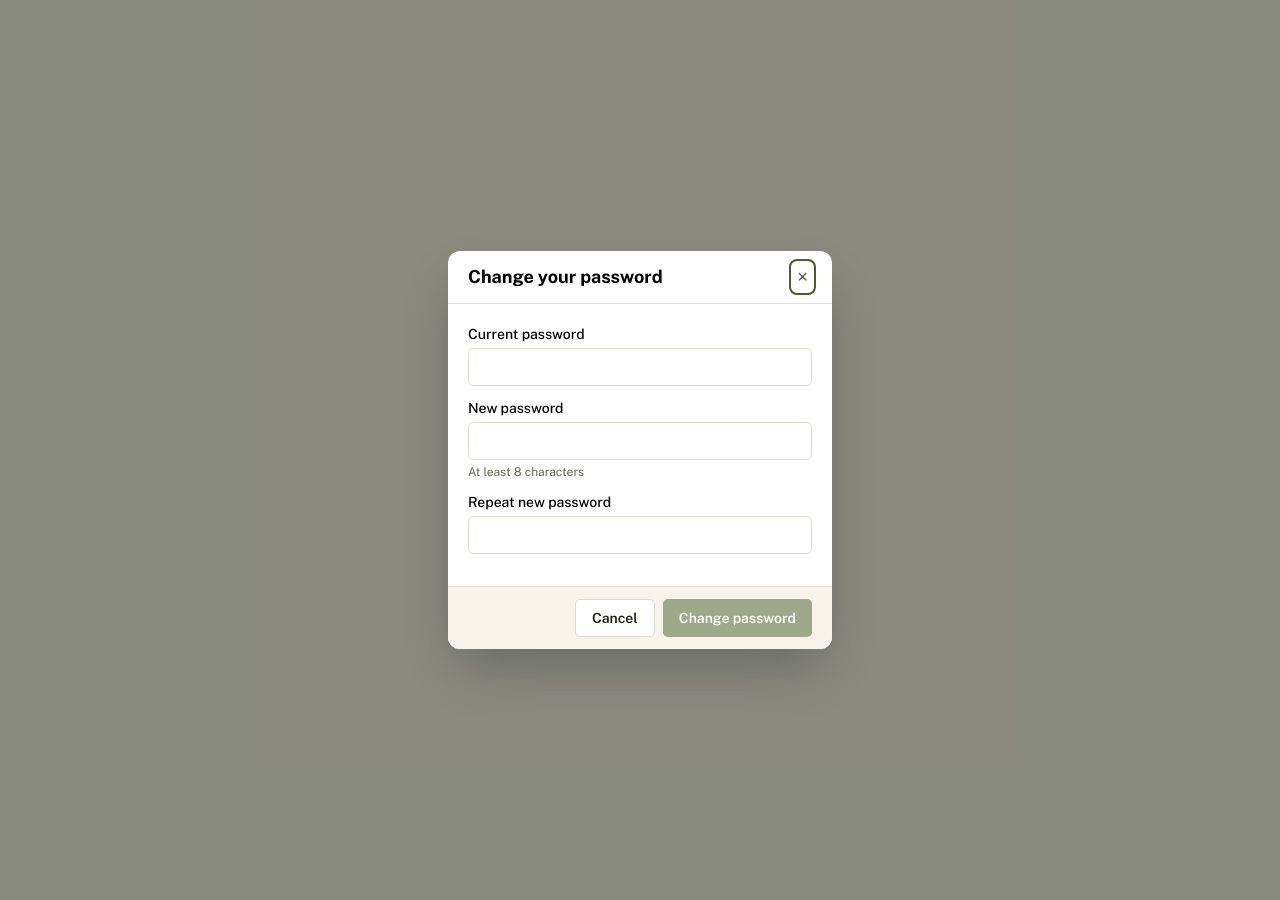
it: change own password › shows the server message when the current password is wrong and keeps the old token
Type "wrong" into the password field labelled "Current password".
click(640, 367); type("wrong")  # box x1=468 y1=348 x2=812 y2=386
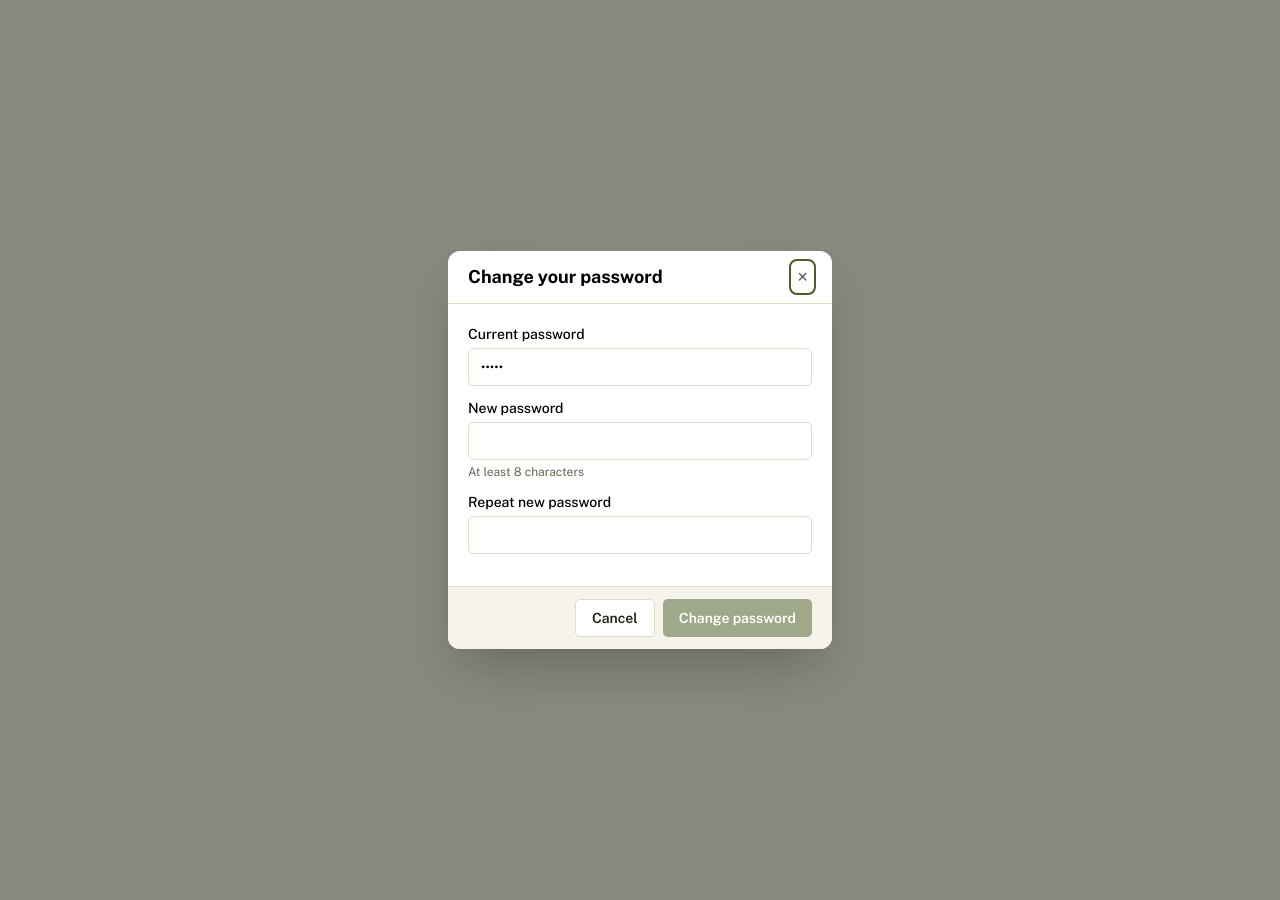
Type "a-better-pass" into the password field labelled "New password".
click(640, 441); type("a-better-pass")  # box x1=468 y1=422 x2=812 y2=460
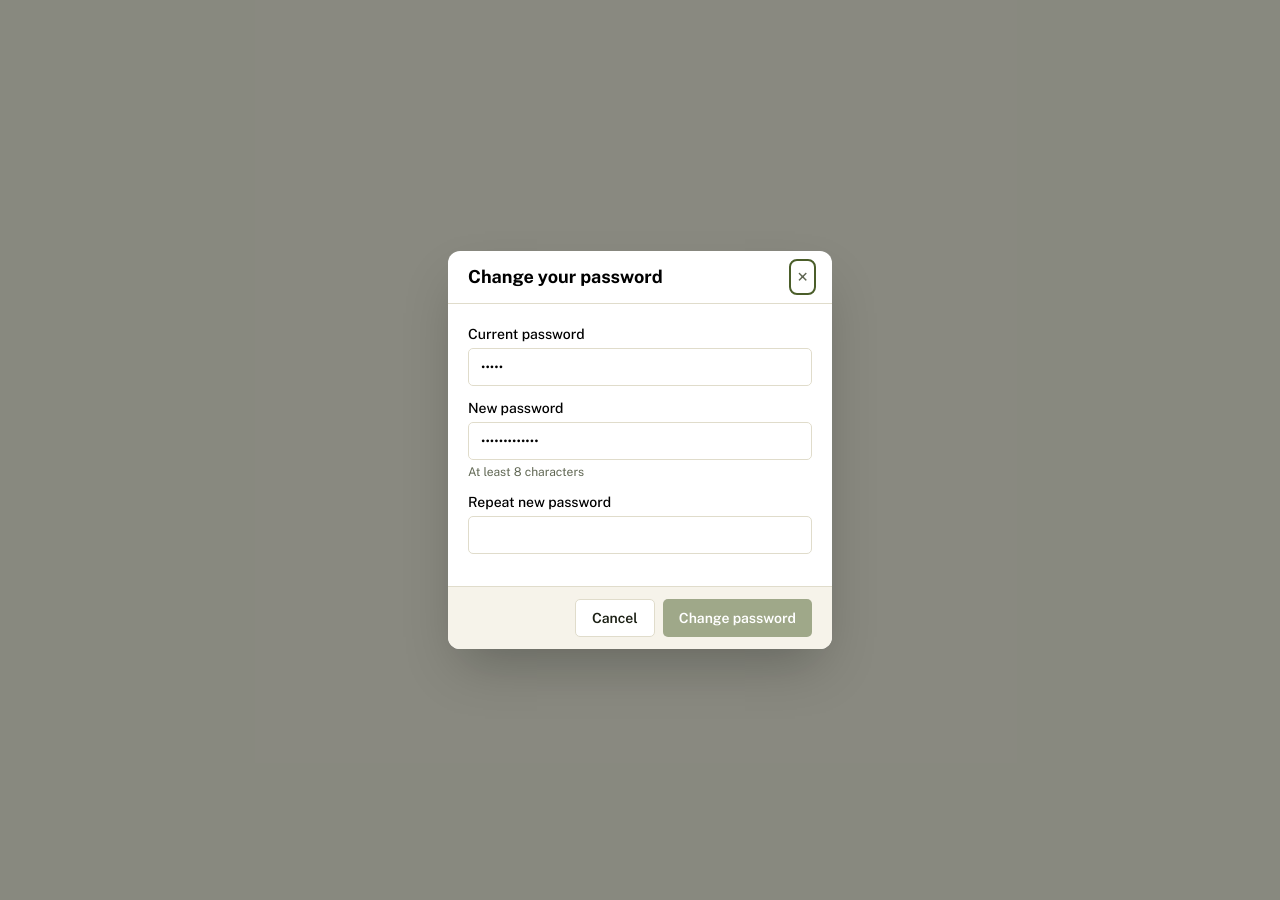
Type "a-better-pass" into the password field labelled "Repeat new password".
click(640, 535); type("a-better-pass")  # box x1=468 y1=516 x2=812 y2=554
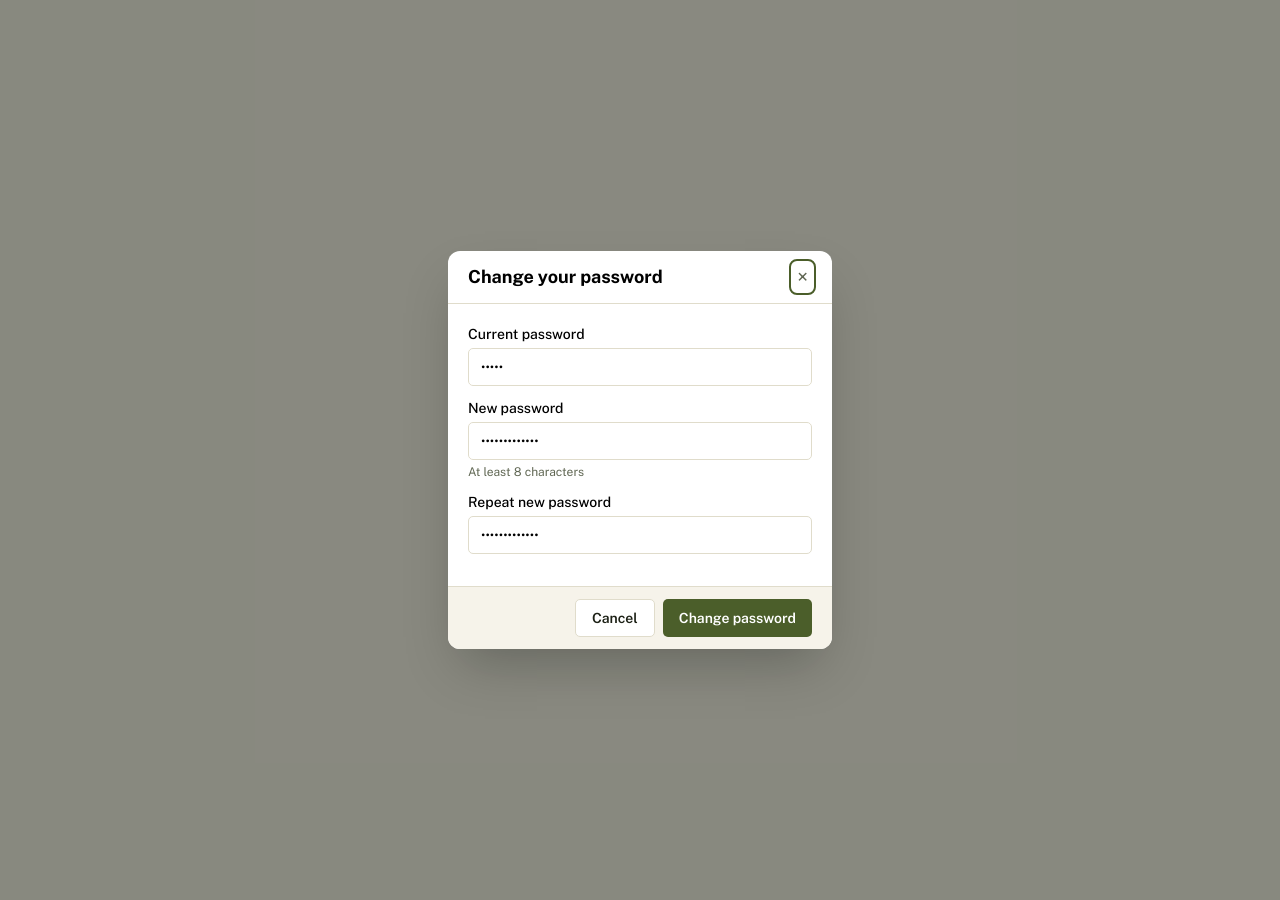
Click the button "Change password".
click(737, 618)  # box x1=663 y1=599 x2=812 y2=637
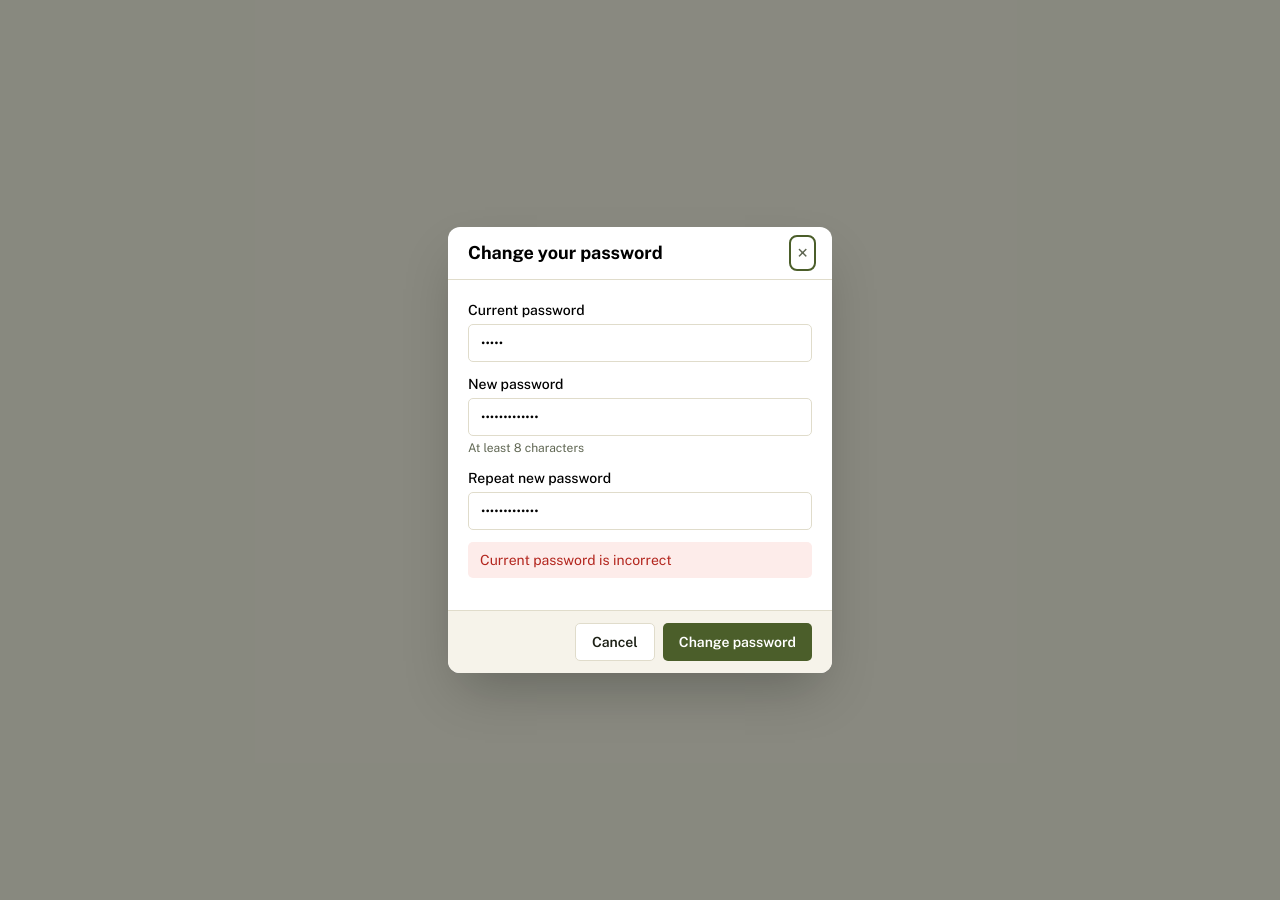
Expected: the message shows "incorrect", x1=480 y1=552 x2=672 y2=568
